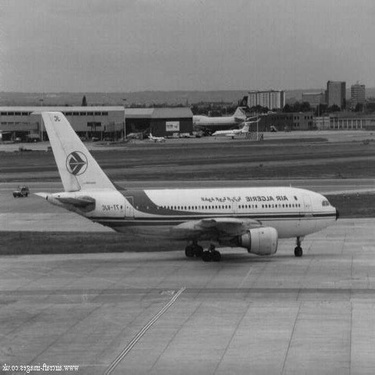airplane: (10, 92, 353, 280), (162, 80, 272, 152), (198, 108, 263, 144)
